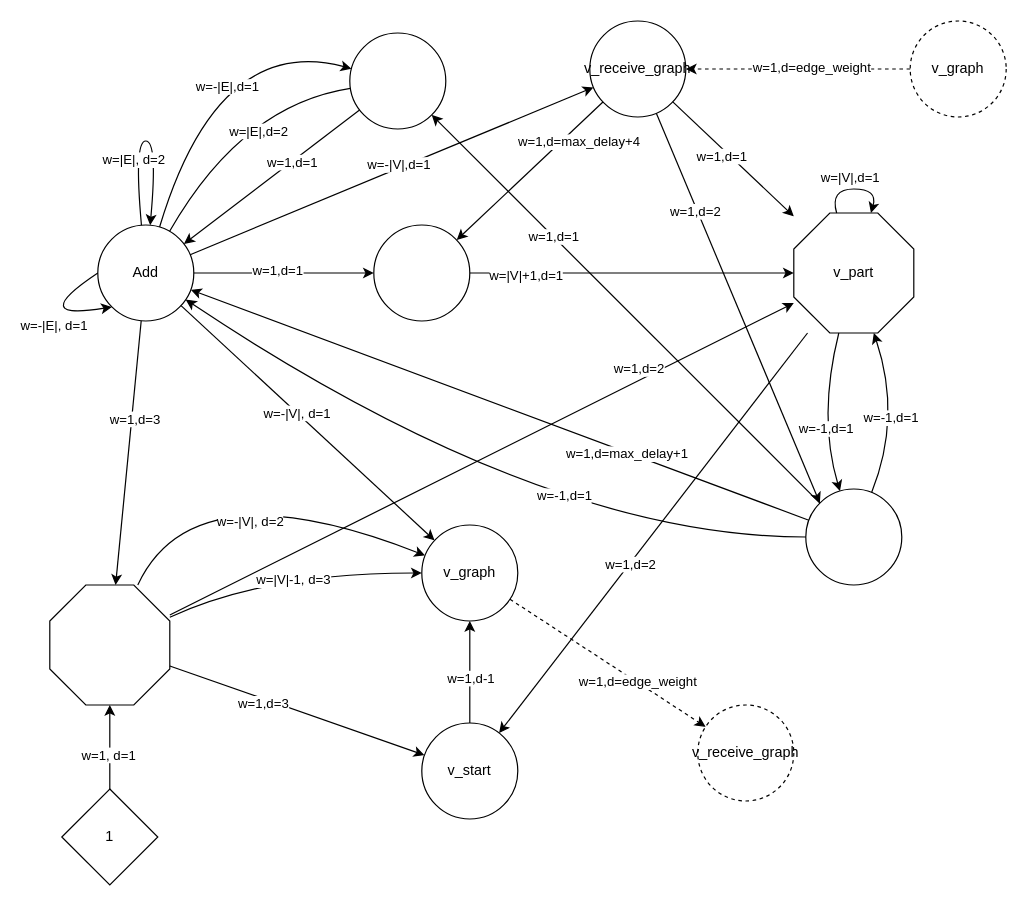
Image size: 1027x906. Some labels were removed from this diagram. The shapes that lost their labels are listed below. From the top down, each one's centre as x and y in pixels, then its label:
the point at 397,80: adjust_count
the point at 421,272: v_add
the point at 853,536: v_notpart
the point at 109,644: Start
